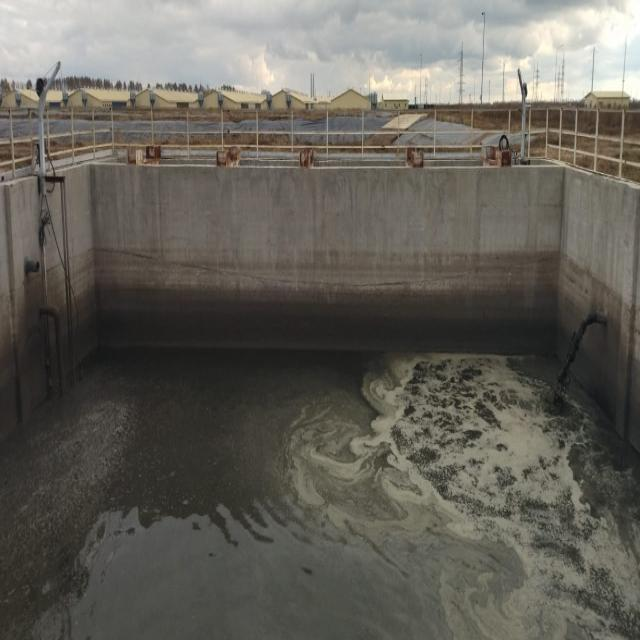fence: (43, 108, 521, 171), (525, 105, 640, 187), (0, 108, 39, 188)
liquid: (0, 343, 640, 640)
